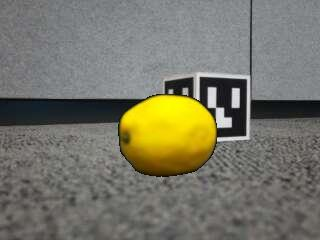lemon: (119, 95, 216, 177)
